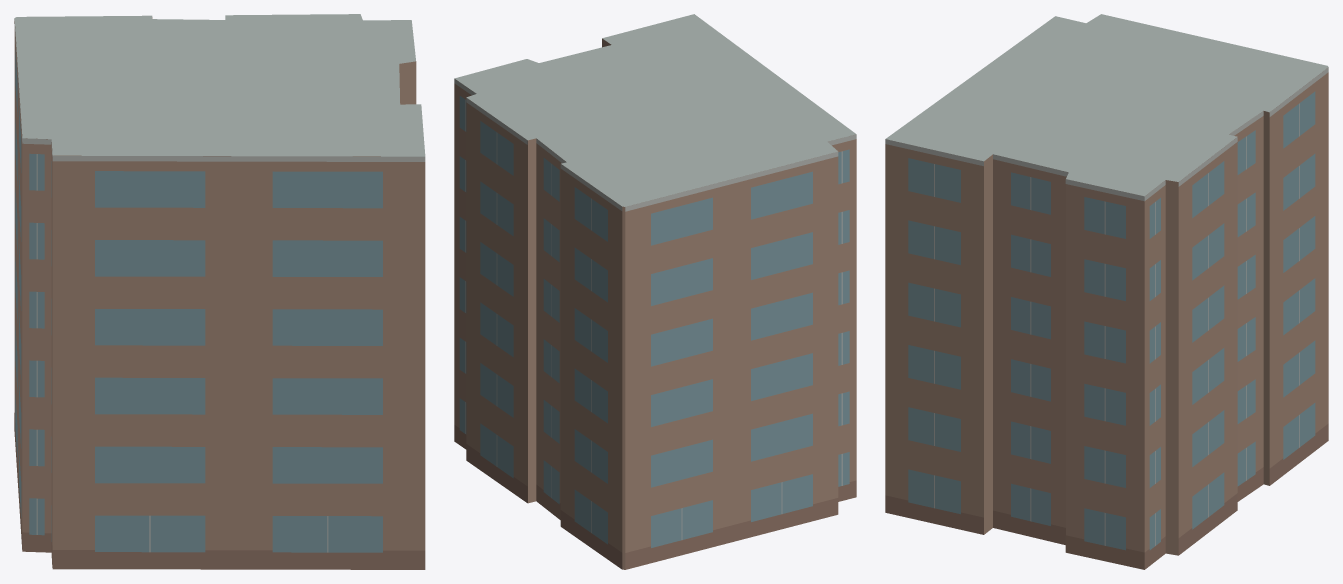
File: survey-upis-32876004.glb
The picture shows the model from 3 angles, left to right: view 1: azimuth 30°, elevation 25°; view 2: azimuth 150°, elevation 25°; view 3: azimuth 270°, elevation 25°; orthographic projection. The views are drawn at different scales.
Visible parts, largest first — view 1: survey-upis-32876004.tmp; view 2: survey-upis-32876004.tmp; view 3: survey-upis-32876004.tmp.
Part boxes in pixels (left/top/right/bottom): survey-upis-32876004.tmp: left=14, top=14, right=425, bottom=569; survey-upis-32876004.tmp: left=454, top=14, right=856, bottom=569; survey-upis-32876004.tmp: left=885, top=14, right=1328, bottom=569.
Bounding box in the file's own units: 19.26 × 18.4 × 19.8.
